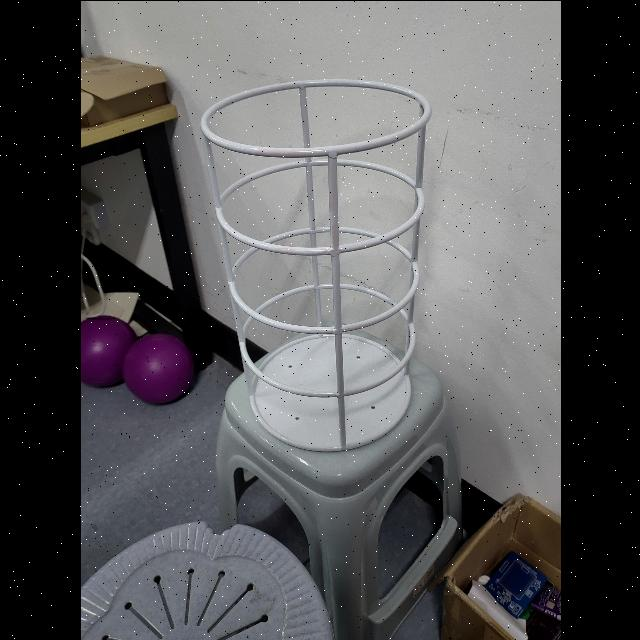S: (200, 72, 432, 456)
